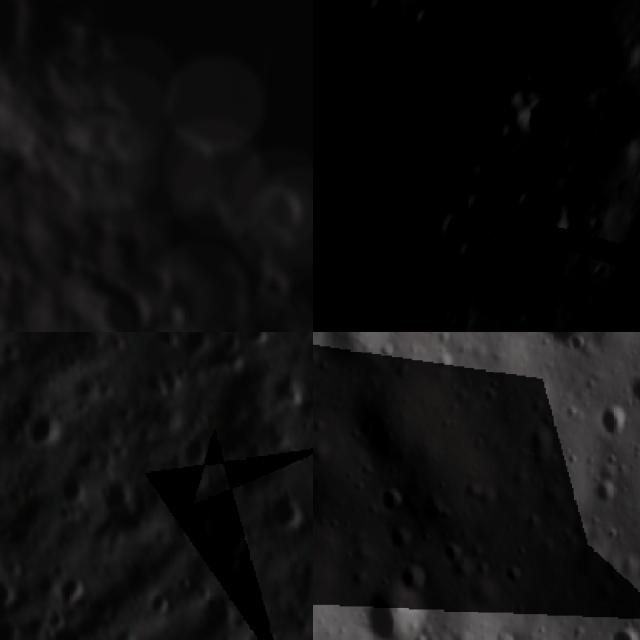crater: (89, 272, 169, 332), (361, 573, 426, 640), (254, 180, 310, 250), (554, 186, 588, 262), (594, 395, 634, 449), (267, 488, 313, 534), (522, 332, 607, 353), (0, 56, 35, 105), (26, 413, 64, 454), (529, 94, 558, 143), (272, 364, 302, 409), (496, 550, 528, 592), (219, 519, 252, 557), (179, 332, 216, 365), (39, 624, 113, 640), (371, 486, 410, 514), (440, 207, 464, 241), (627, 366, 640, 413), (607, 622, 640, 640), (313, 45, 326, 74)
